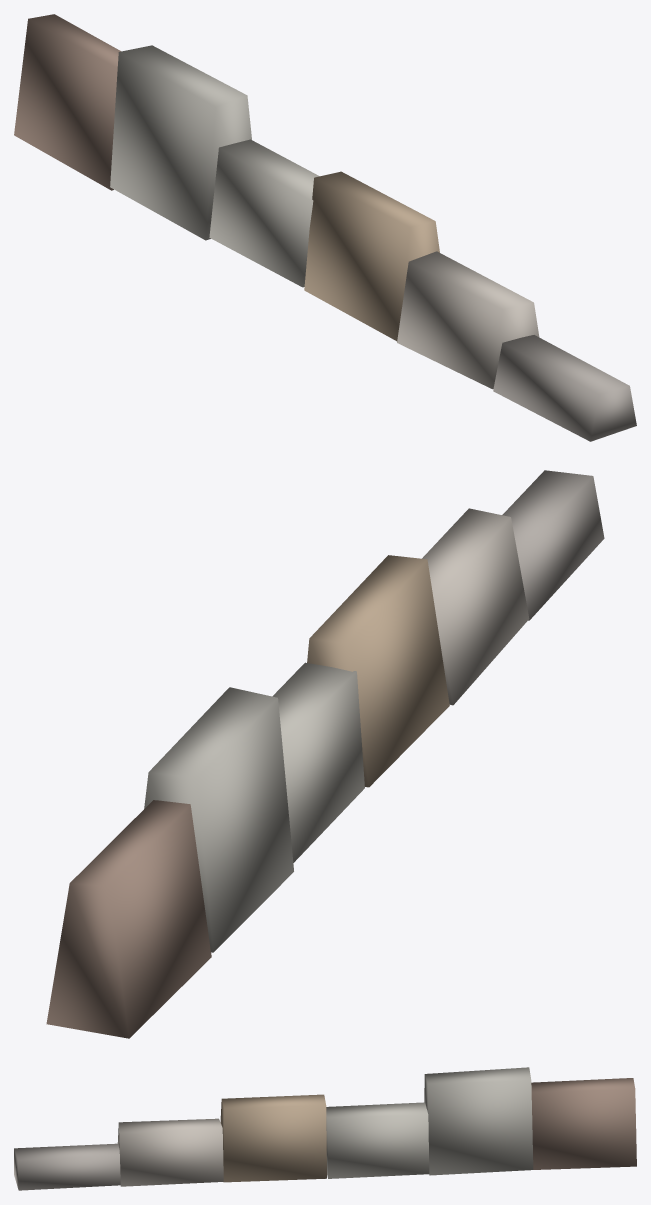
File: farm_-25_-32_far.glb
3 views of the same model, one above another, from view 1: azimuth 30°, elevation 25°; view 2: azimuth 150°, elevation 25°; view 3: azimuth 270°, elevation 25° (orthographic). The views are drawn at different scales.
Parts seen in each view (by area): view 1: geometry_0; view 2: geometry_0; view 3: geometry_0.
Part boxes in pixels (box(x1,y1,x2,y2)): geometry_0: box(14, 14, 636, 441); geometry_0: box(46, 470, 604, 1038); geometry_0: box(14, 1067, 636, 1190).
Bounding box in the file's own units: 1.84 × 1.5 × 9.52.
